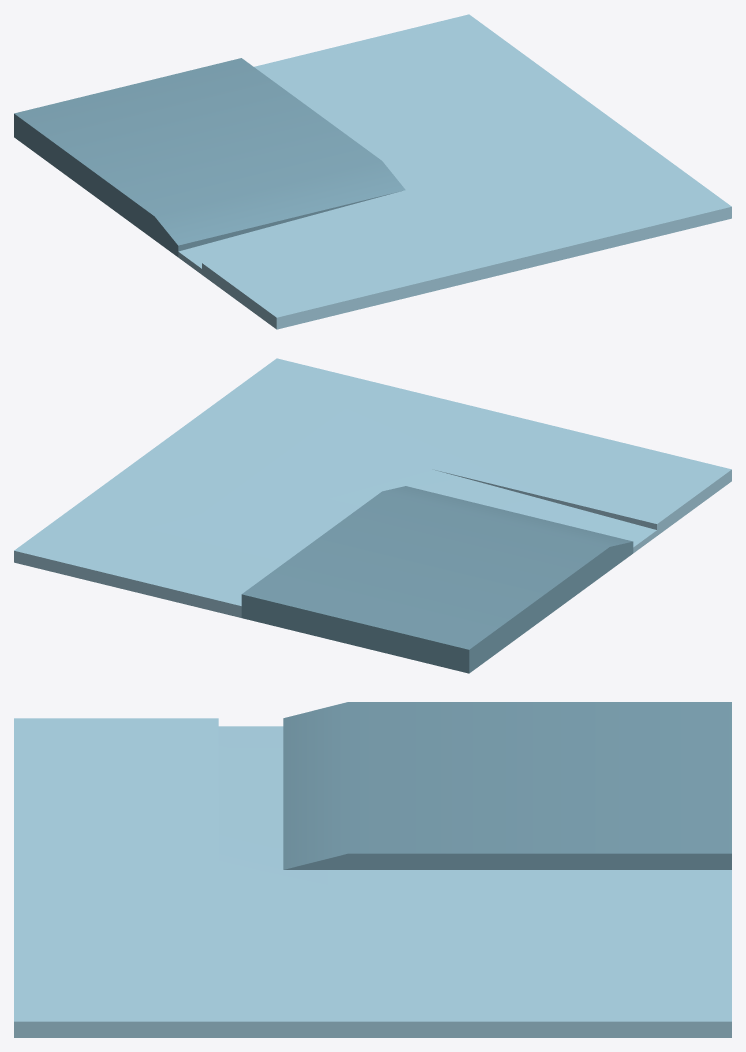
The model's file is roadCurbEnd.dae.
3 renders of one model, top to bottom at view 1: azimuth 30°, elevation 25°; view 2: azimuth 150°, elevation 25°; view 3: azimuth 270°, elevation 25°, orthographic. The views are drawn at different scales.
Visible parts, largest first — view 1: roadCurbEnd; view 2: roadCurbEnd; view 3: roadCurbEnd.
Part boxes in pixels (x1=…): roadCurbEnd: x1=14, y1=14, x2=731, y2=329; roadCurbEnd: x1=14, y1=358, x2=731, y2=673; roadCurbEnd: x1=14, y1=702, x2=731, y2=1037.
Size of the model in its own units: 1 by 0.05 by 1.
